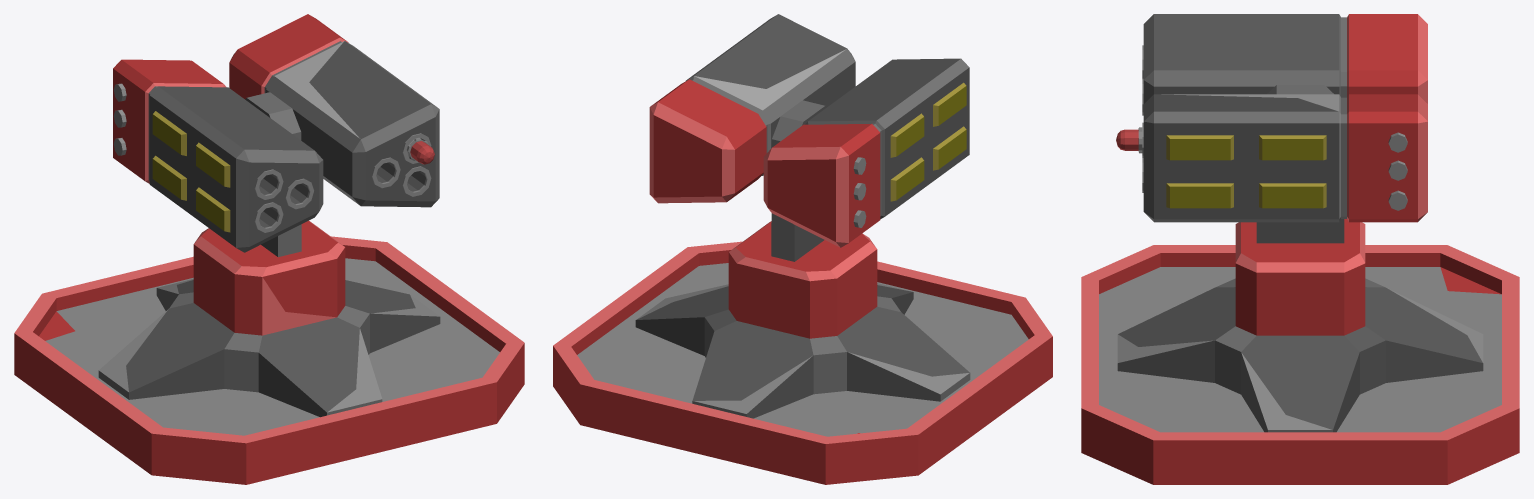
Rendered from tower_rocket_red_1.fbx.
3 renders of one model, left to right at view 1: azimuth 30°, elevation 25°; view 2: azimuth 150°, elevation 25°; view 3: azimuth 270°, elevation 25°, orthographic. The views are drawn at different scales.
Parts seen in each view (by area): view 1: top_rocket_red_1, tower_rocket_red_1, rocket_red_1; view 2: top_rocket_red_1, tower_rocket_red_1; view 3: top_rocket_red_1, tower_rocket_red_1, rocket_red_1.
Part boxes in pixels (box(x1,y1,x2,y2)): top_rocket_red_1: box(98, 14, 440, 417); tower_rocket_red_1: box(14, 236, 524, 484); rocket_red_1: box(406, 137, 434, 164); top_rocket_red_1: box(635, 14, 970, 418); tower_rocket_red_1: box(553, 241, 1052, 484); top_rocket_red_1: box(1117, 14, 1483, 432); tower_rocket_red_1: box(1081, 245, 1519, 484); rocket_red_1: box(1116, 127, 1142, 153).
Bounding box in the file's own units: 158 × 123 × 150.
